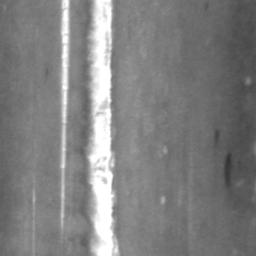Bright scratch: (86, 0, 116, 256), (61, 0, 72, 220)
